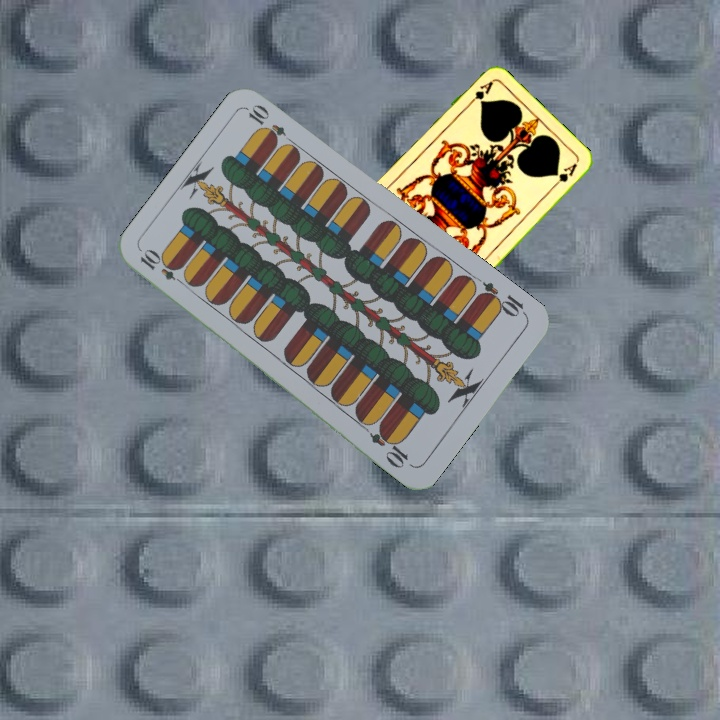E10: (474, 278, 530, 320), (136, 246, 190, 289)
GA: (463, 77, 496, 110)
